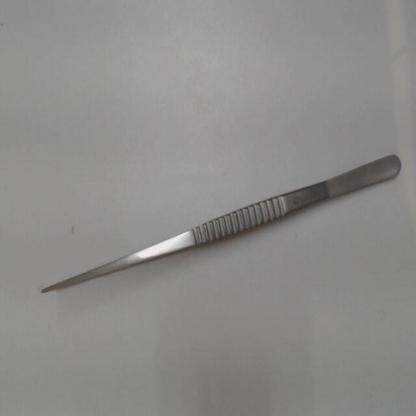DeBakey Dissector: (35, 127, 410, 318)
